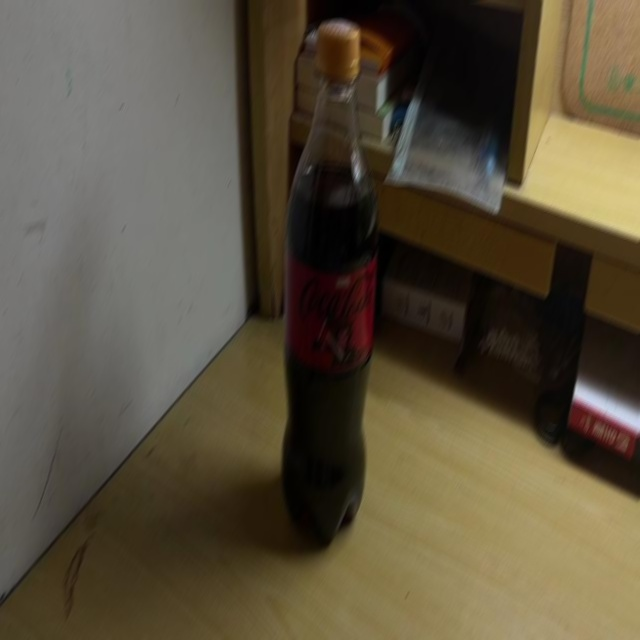Coca-Cola: (281, 18, 376, 552)
